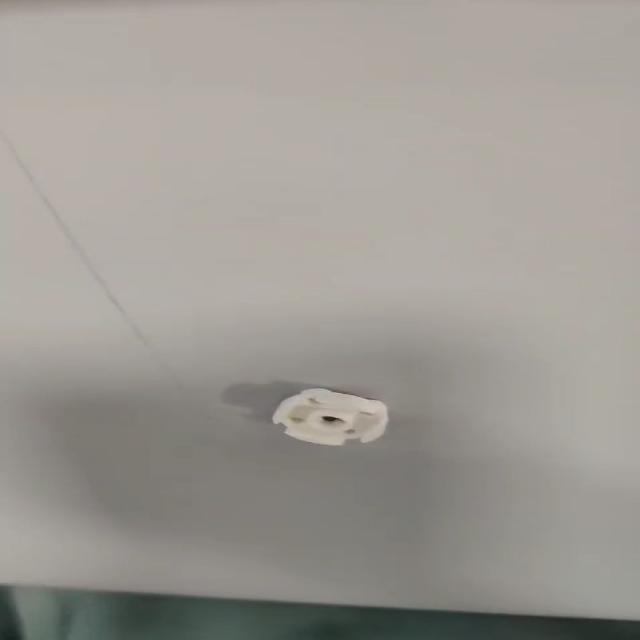S2x2x0: (269, 386, 390, 446)
